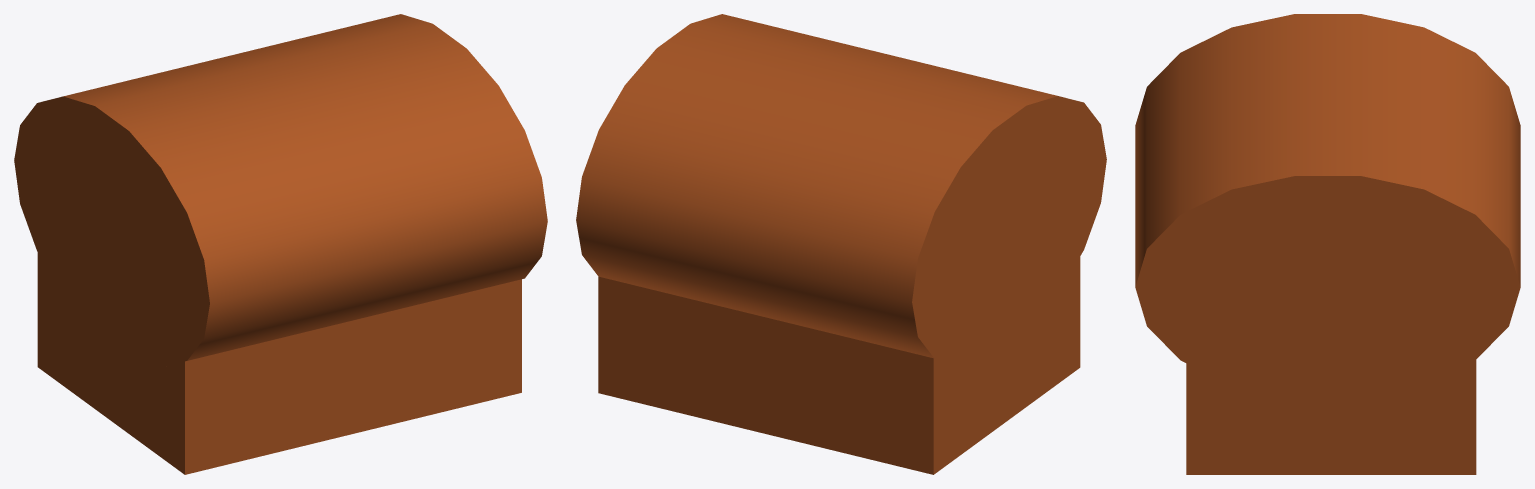
The model's file is Bread.FBX.
3 views of the same model, side by side, from view 1: azimuth 30°, elevation 25°; view 2: azimuth 150°, elevation 25°; view 3: azimuth 270°, elevation 25° (orthographic).
Visible parts, largest first — view 1: Box001; view 2: Box001; view 3: Box001.
Boxes of the visible parts, x1,y1,x2,y2 form: Box001: (14,14,547,474); Box001: (576,14,1106,474); Box001: (1135,14,1520,474).
Bounding box in the file's own units: 41.48 × 35.64 × 41.65.
